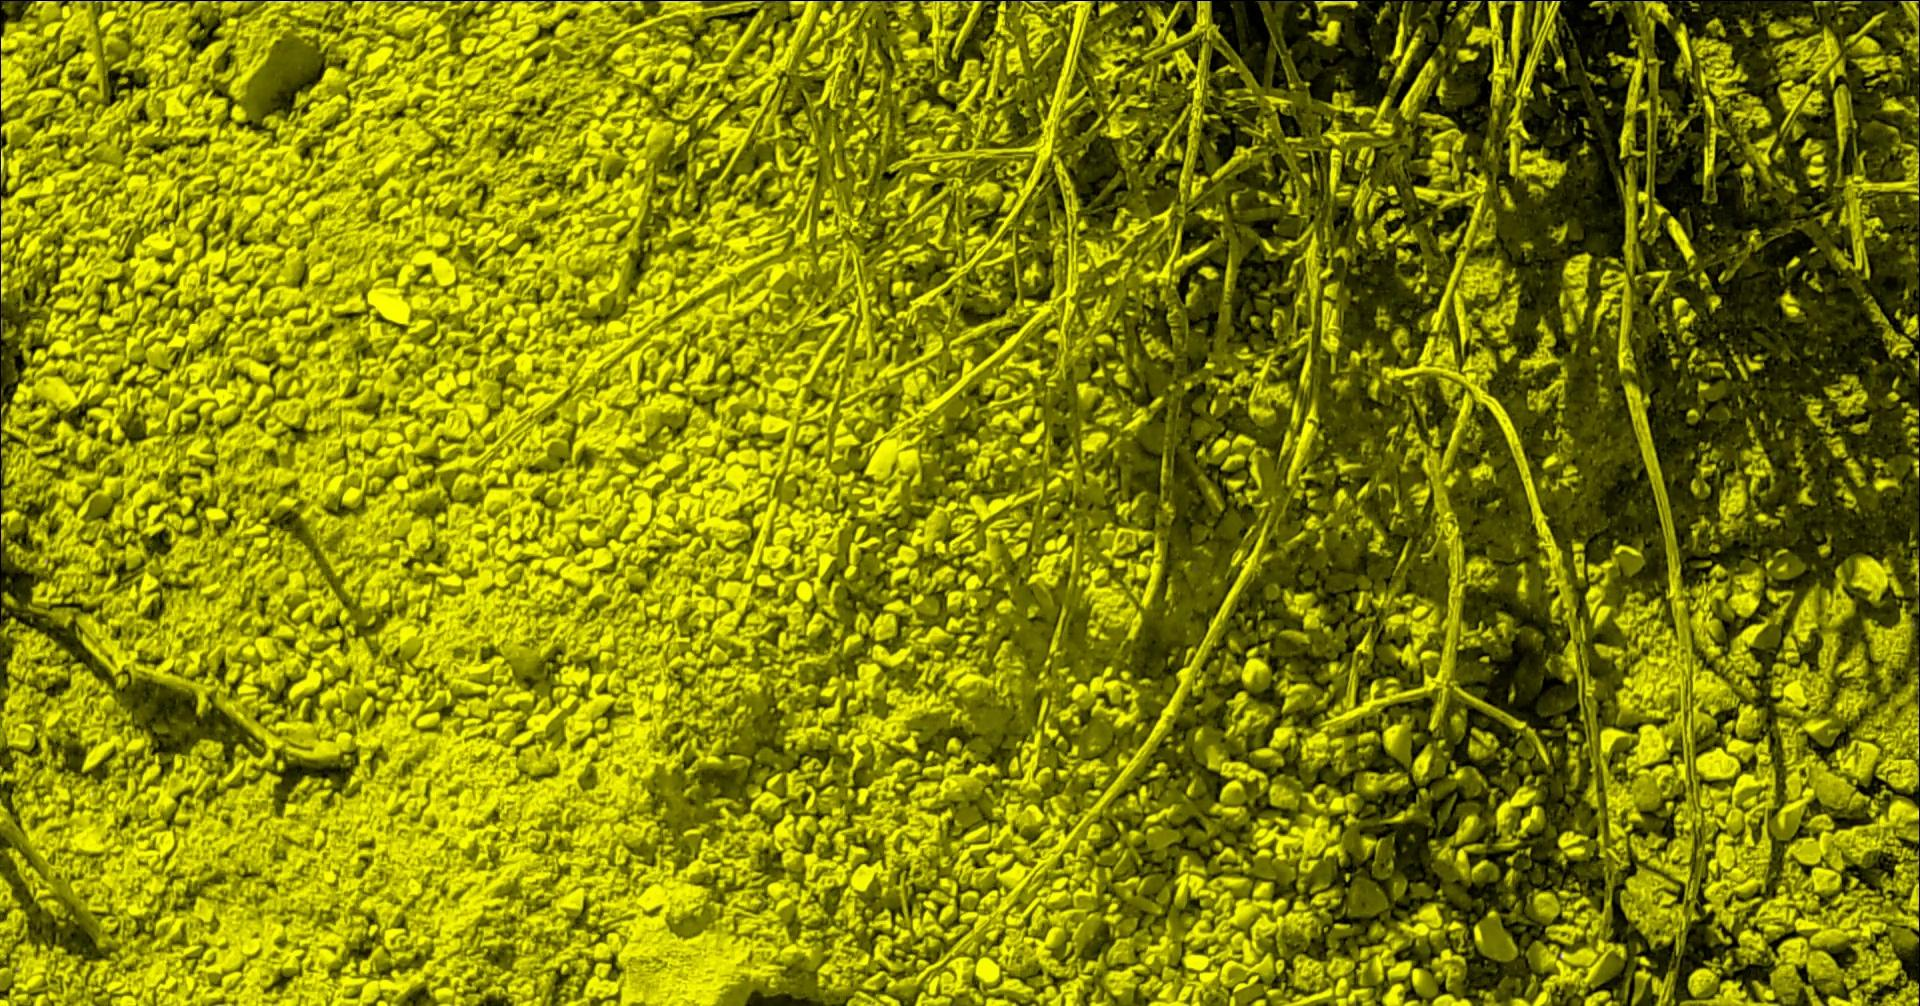ant: (1095, 0, 1156, 3)
